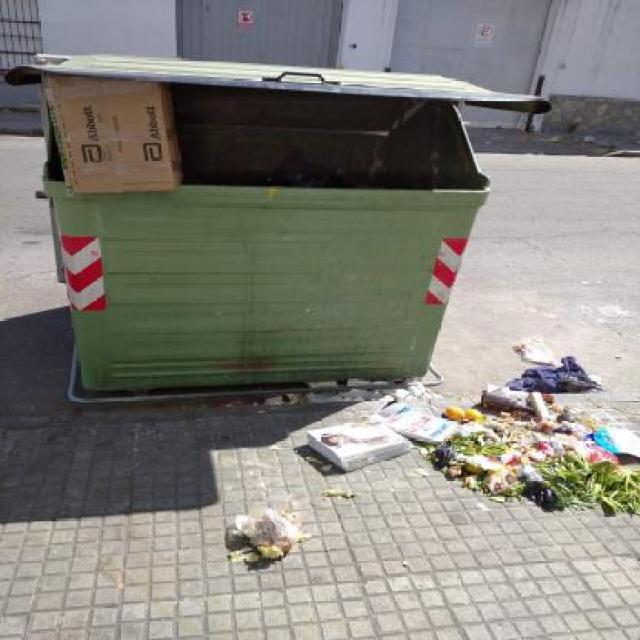garbage: (234, 378, 640, 550), (33, 69, 203, 204), (203, 477, 360, 588), (502, 319, 565, 406)
